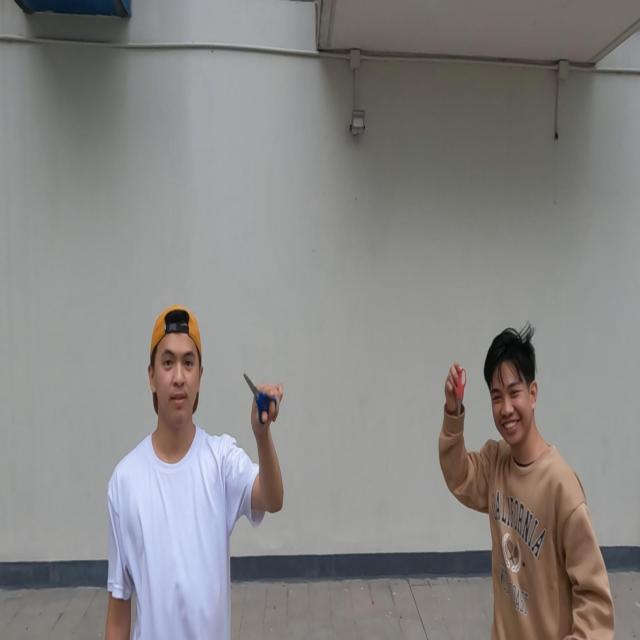scissor: (243, 372, 278, 427), (452, 366, 467, 432)
